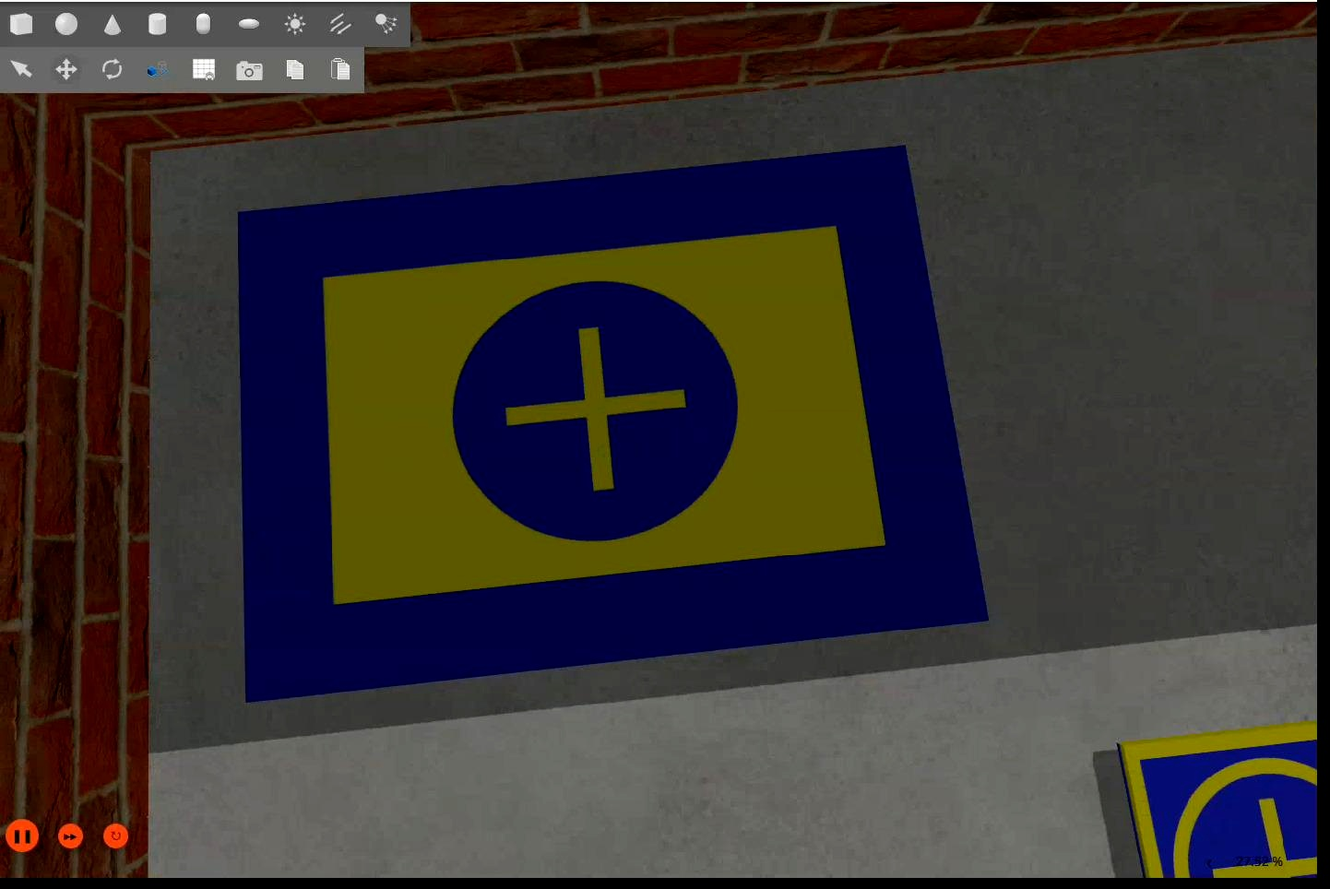large_base: (233, 140, 992, 708)
small_base: (1115, 720, 1317, 876)
